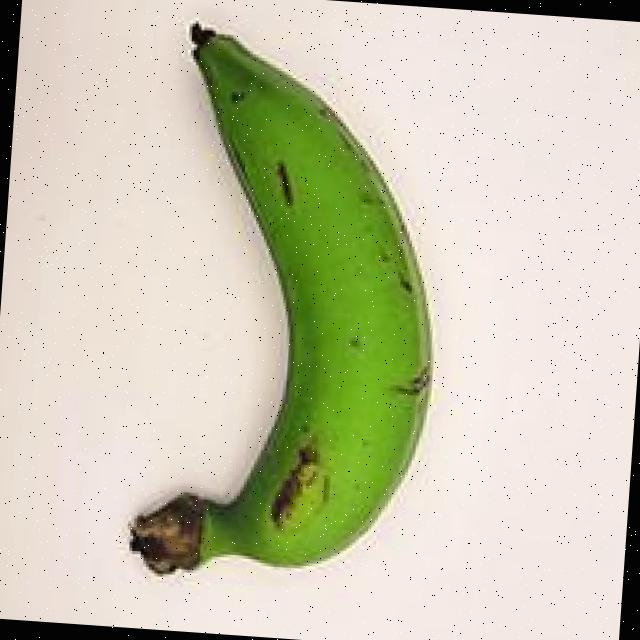Raw: (66, 0, 474, 618)
